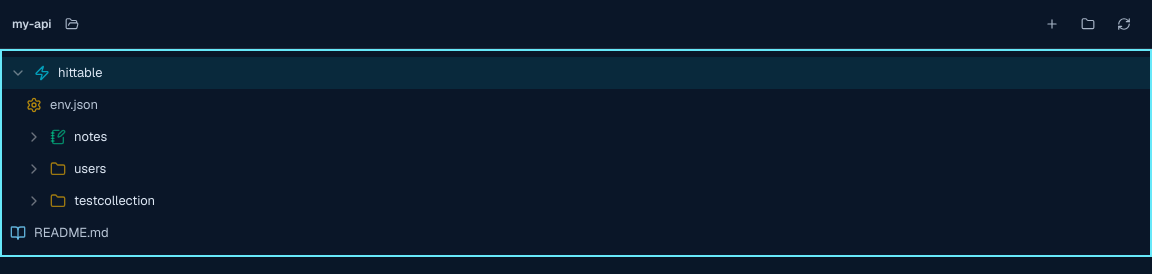
Scenario: DirectoryTree (explorer) › F2 renames the selected file on disk
Press Arrowdown Arrowdown Arrowdown {ArrowD
Expected: the text "README.md" is shown, [34,224,109,241]
Press F2
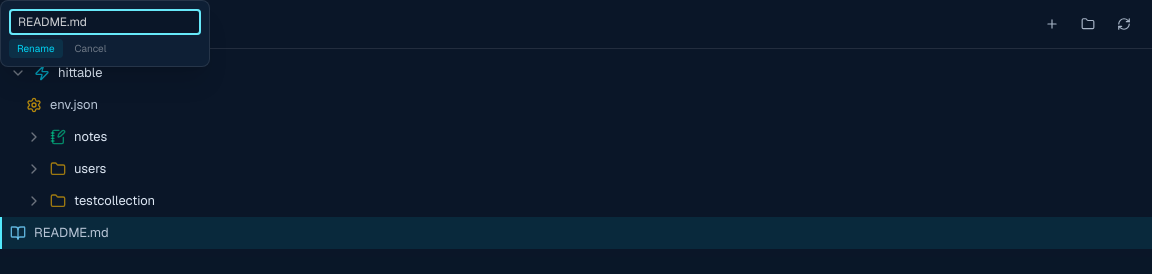
Result: the field named "Rename README.md" holds "README.md"
Replace the text in the field named "Rename README.md" with "GUIDE.md". click: (105, 22)
box: [9,9,201,35]
Then press Enter
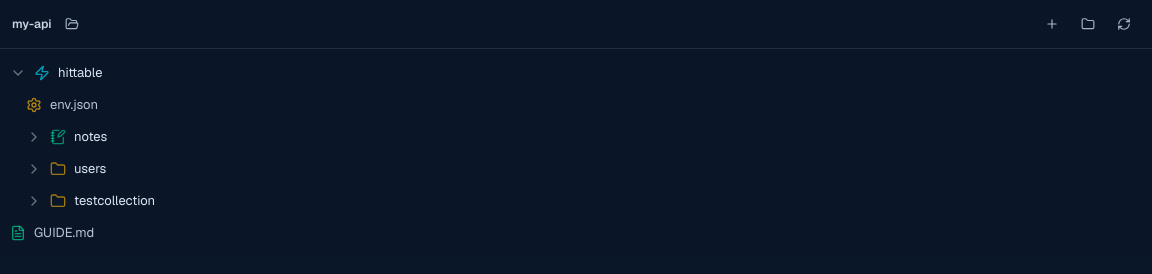
Result: the list item "GUIDE.md" is shown at [10,224,94,241]
